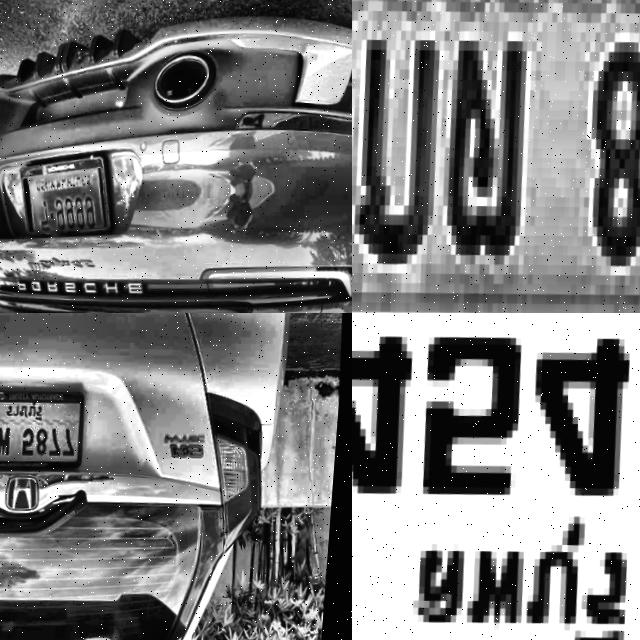license-plate: (352, 313, 640, 640), (352, 0, 640, 313), (14, 138, 126, 255), (0, 383, 92, 474)
